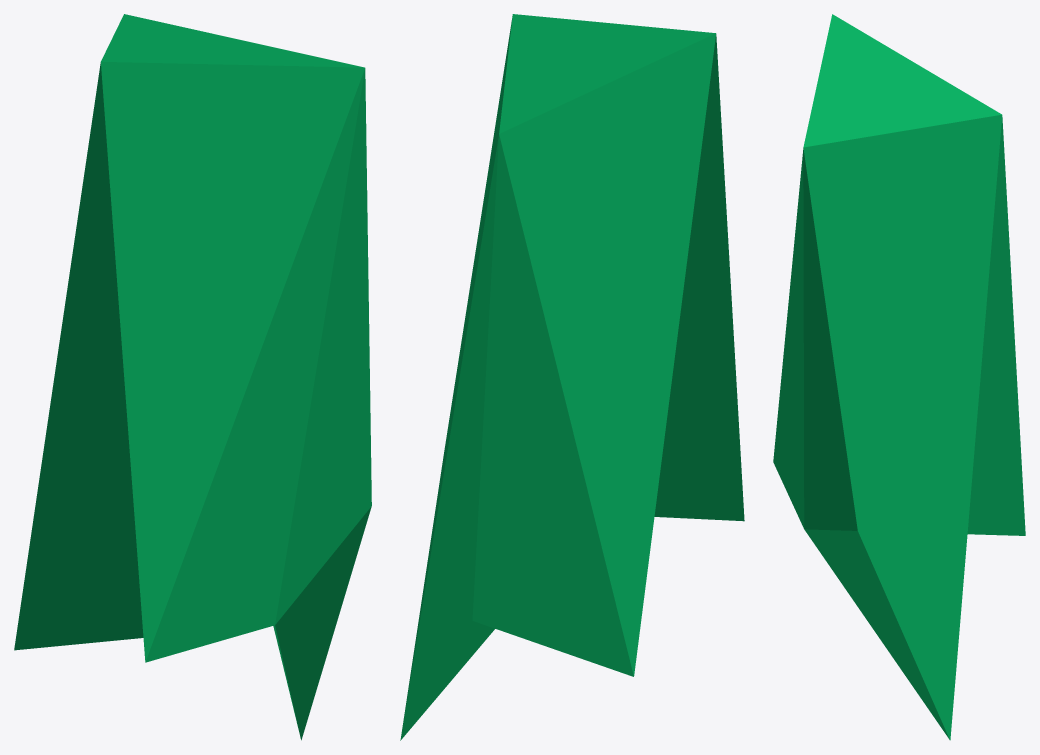
File: SeguaroCactusSmall_LOD2.fbx
The picture shows the model from 3 angles, left to right: view 1: azimuth 30°, elevation 25°; view 2: azimuth 150°, elevation 25°; view 3: azimuth 270°, elevation 25°; orthographic projection. The views are drawn at different scales.
Parts seen in each view (by area): view 1: SeguaroCactusSmall_LOD2; view 2: SeguaroCactusSmall_LOD2; view 3: SeguaroCactusSmall_LOD2.
Boxes of the visible parts, x1=… form: SeguaroCactusSmall_LOD2: x1=14, y1=14, x2=371, y2=740; SeguaroCactusSmall_LOD2: x1=400, y1=14, x2=744, y2=740; SeguaroCactusSmall_LOD2: x1=773, y1=14, x2=1025, y2=740.
Size of the model in its own units: 23.81 by 64.75 by 24.28.
